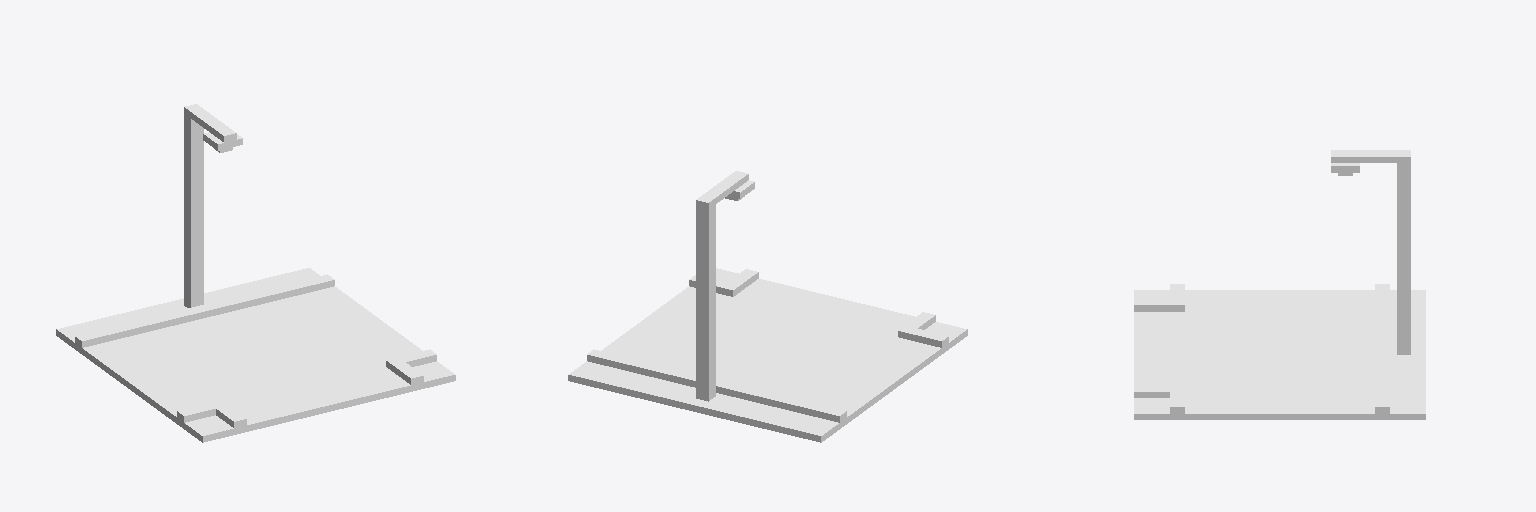
The model's file is road3-1.obj.
The picture shows the model from 3 angles: view 1: azimuth 30°, elevation 25°; view 2: azimuth 150°, elevation 25°; view 3: azimuth 270°, elevation 25°; orthographic projection.
Visible parts, largest first — view 1: object 1; view 2: object 1; view 3: object 1.
Boxes of the visible parts, <box> form: object 1: <box>56,104,455,442</box>; object 1: <box>568,171,967,442</box>; object 1: <box>1134,150,1425,419</box>.
Bounding box in the file's own units: 4 × 3.1 × 4.